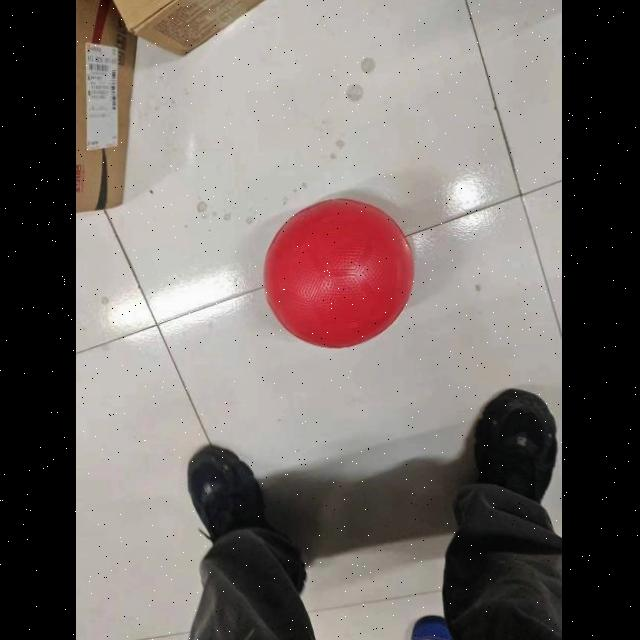R: (250, 186, 432, 347)
